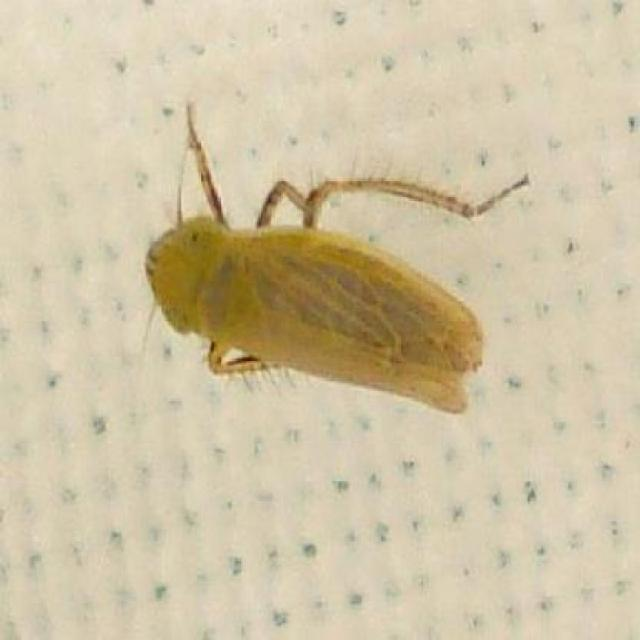green-leafhopper: (147, 108, 528, 408)
